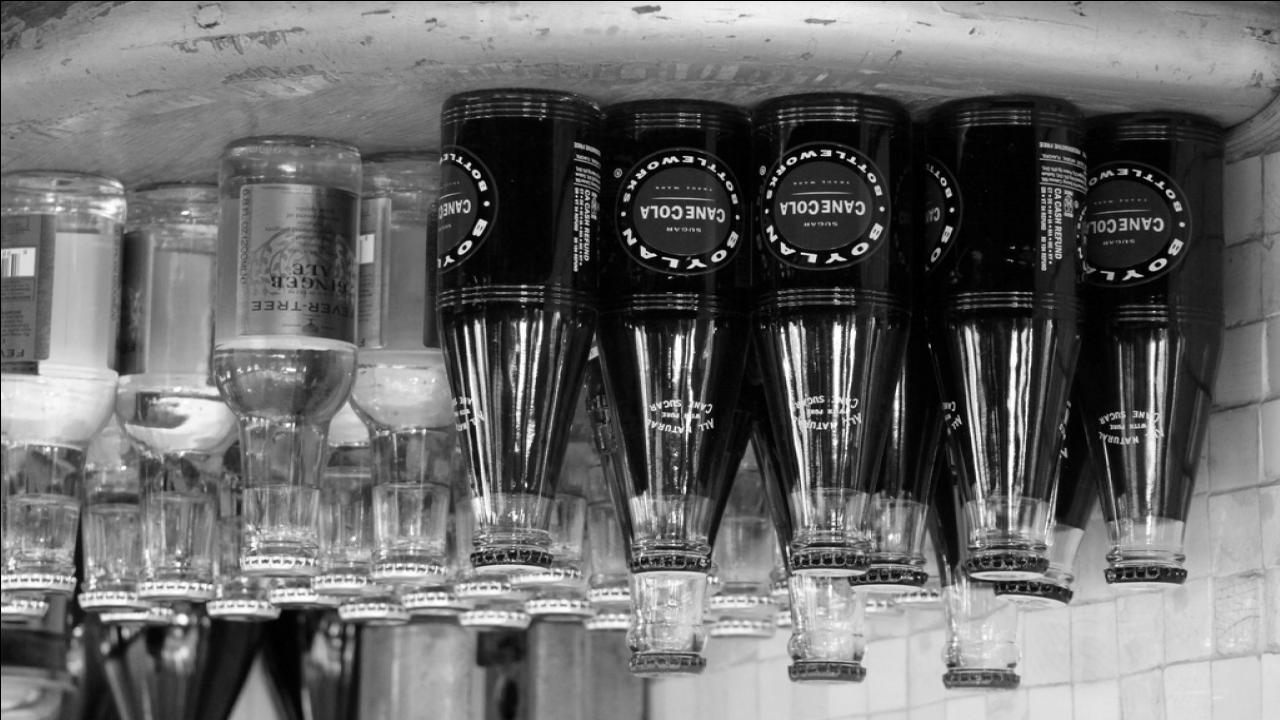bottle_cap: (784, 548, 876, 577), (992, 577, 1076, 607), (468, 548, 558, 576), (962, 549, 1050, 577), (1100, 562, 1188, 589), (264, 579, 342, 609), (842, 567, 928, 594), (401, 585, 474, 616), (238, 550, 324, 576), (337, 593, 411, 623), (786, 657, 864, 685), (458, 600, 530, 630), (522, 588, 593, 618), (368, 558, 448, 584), (628, 649, 702, 677), (624, 551, 714, 573), (96, 601, 172, 627), (511, 565, 585, 591), (310, 572, 388, 596), (708, 590, 784, 614), (77, 590, 153, 614), (132, 580, 218, 601), (206, 597, 280, 621), (940, 668, 1018, 690), (454, 574, 520, 600), (708, 614, 778, 638), (0, 572, 76, 594), (890, 584, 946, 609), (0, 594, 50, 620), (582, 608, 634, 631), (584, 584, 634, 604), (768, 578, 791, 600), (702, 575, 722, 595)
